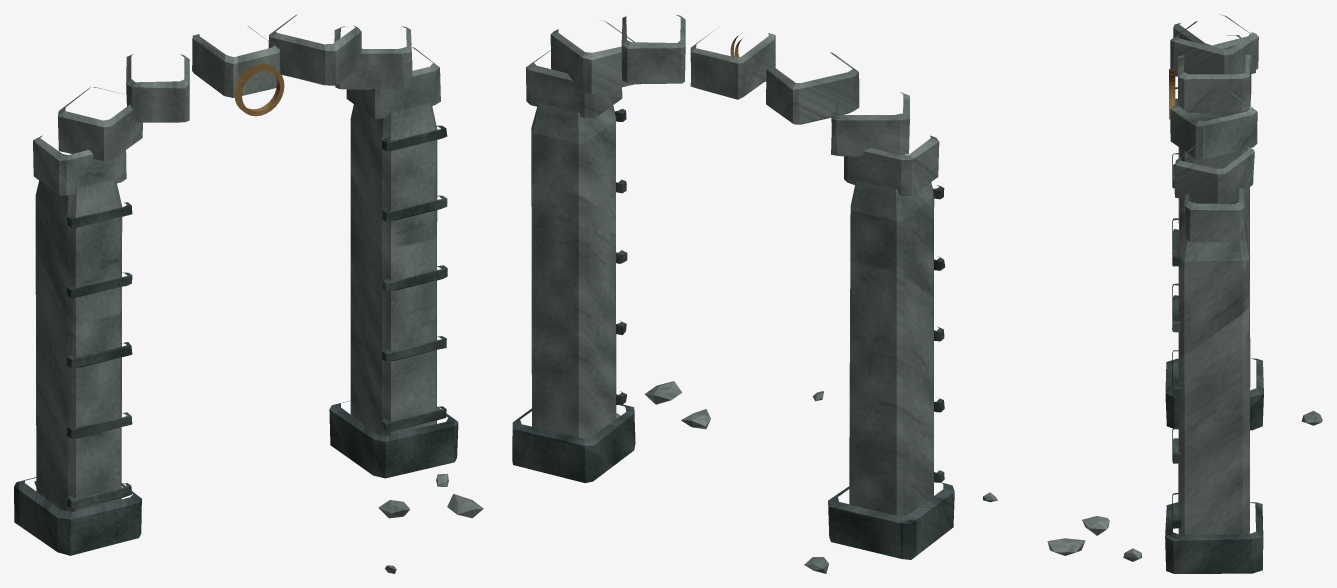
The model's file is 0301_archway_01.glb.
3 renders of one model, left to right at view 1: azimuth 30°, elevation 25°; view 2: azimuth 150°, elevation 25°; view 3: azimuth 270°, elevation 25°, orthographic. The views are drawn at different scales.
Visible parts, largest first — view 1: stone, stone_dark, brass; view 2: stone, stone_dark; view 3: stone, stone_dark.
Part boxes in pixels (x1,y1,x2,y2): stone: [33, 14, 483, 573]; stone_dark: [14, 125, 458, 555]; brass: [234, 63, 284, 116]; stone: [526, 15, 939, 573]; stone_dark: [512, 109, 954, 559]; stone: [983, 14, 1322, 561]; stone_dark: [1165, 87, 1263, 573].
Bounding box in the file's own units: 3.76 × 4.1 × 2.97.
Materials: 3 (3 with a texture image).
